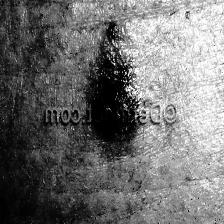Potentially Malignant Skin Tumors: (86, 24, 144, 104)
